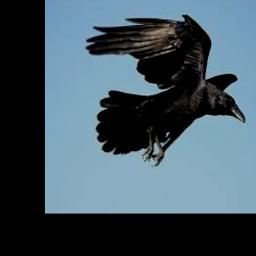Crow: (85, 13, 244, 167)
